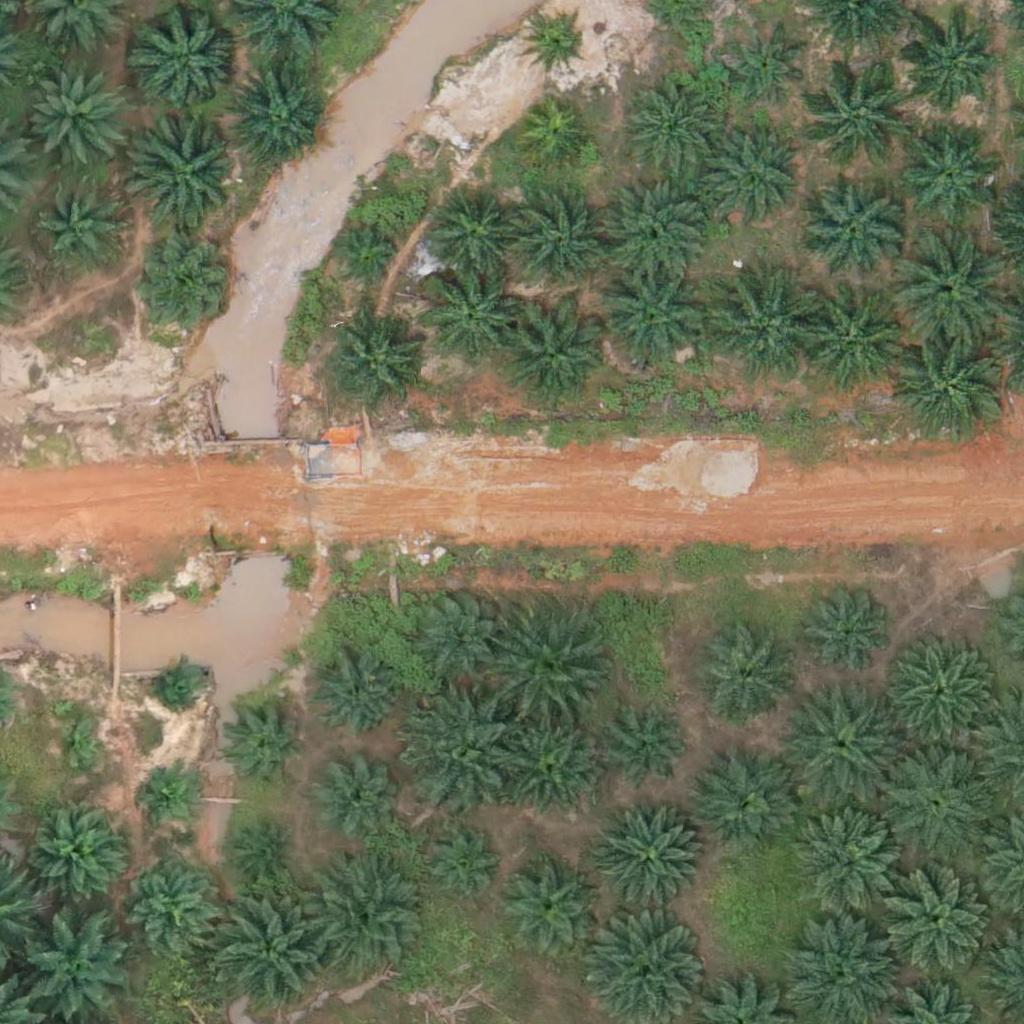Kelapa_Sawit: (311, 866, 424, 980), (879, 867, 992, 980), (879, 638, 992, 751), (793, 808, 906, 921), (216, 889, 329, 1002), (893, 332, 1006, 445), (598, 173, 711, 286), (595, 261, 708, 374), (497, 300, 610, 413), (131, 1, 244, 114), (878, 744, 990, 858), (805, 53, 917, 167), (703, 270, 815, 384), (791, 687, 903, 800), (596, 803, 708, 916), (493, 616, 605, 729), (403, 695, 515, 808), (892, 232, 1004, 345), (793, 289, 905, 402), (130, 113, 242, 226), (797, 581, 897, 682), (692, 754, 792, 855), (499, 714, 599, 815), (405, 581, 505, 682), (898, 16, 998, 117), (800, 178, 900, 279), (700, 129, 800, 230), (508, 195, 608, 296), (423, 186, 523, 287), (225, 67, 325, 168), (325, 312, 425, 413), (133, 240, 233, 341), (21, 67, 121, 168), (696, 631, 796, 731), (500, 856, 600, 956), (31, 805, 131, 905), (898, 120, 998, 220), (623, 77, 723, 177), (418, 266, 518, 366), (723, 23, 811, 111), (311, 652, 398, 741), (605, 705, 692, 793), (418, 822, 505, 910), (311, 751, 398, 839), (127, 855, 214, 943), (221, 699, 308, 787), (39, 185, 126, 273), (516, 100, 591, 175), (331, 224, 406, 299), (525, 13, 588, 76), (143, 768, 193, 819), (150, 658, 200, 708), (241, 827, 291, 877), (53, 721, 103, 771)
